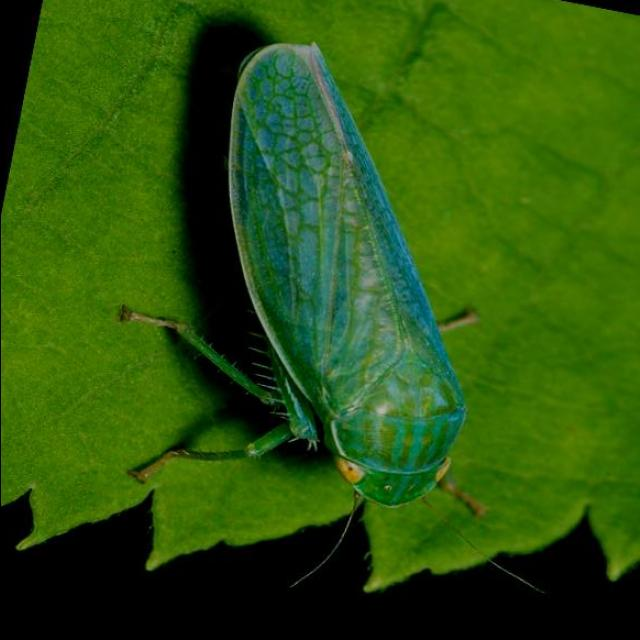green leaf hopper: (121, 43, 478, 507)
